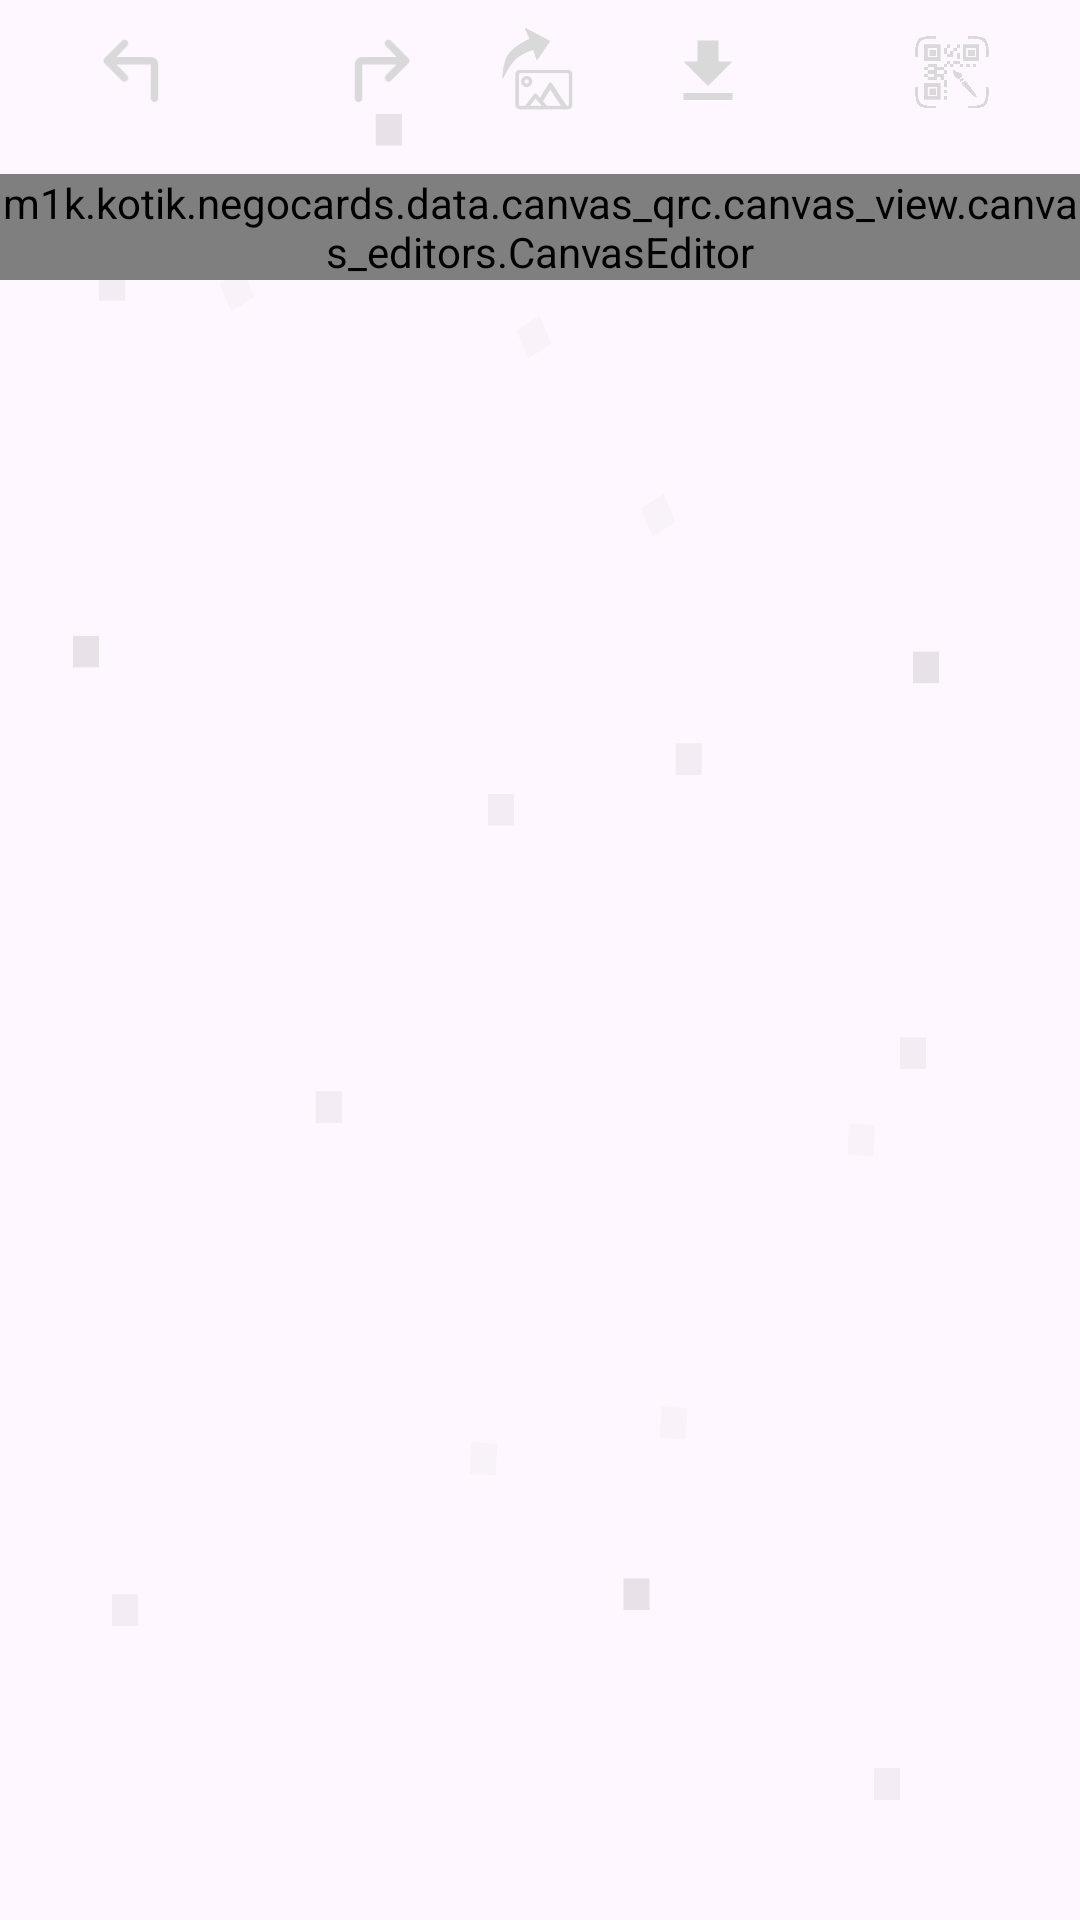

Icons on this 1080px x 1920px Android screen, each with its box as [x1, y1, x2, y2]:
arrow top left: [104, 40, 158, 102]
arrow top right: [355, 40, 409, 102]
create qrc: [915, 36, 989, 108]
download: [684, 41, 732, 100]
share: [502, 28, 572, 109]
